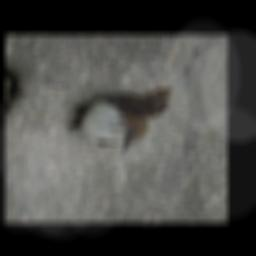Cuckoo: (56, 69, 176, 158)
